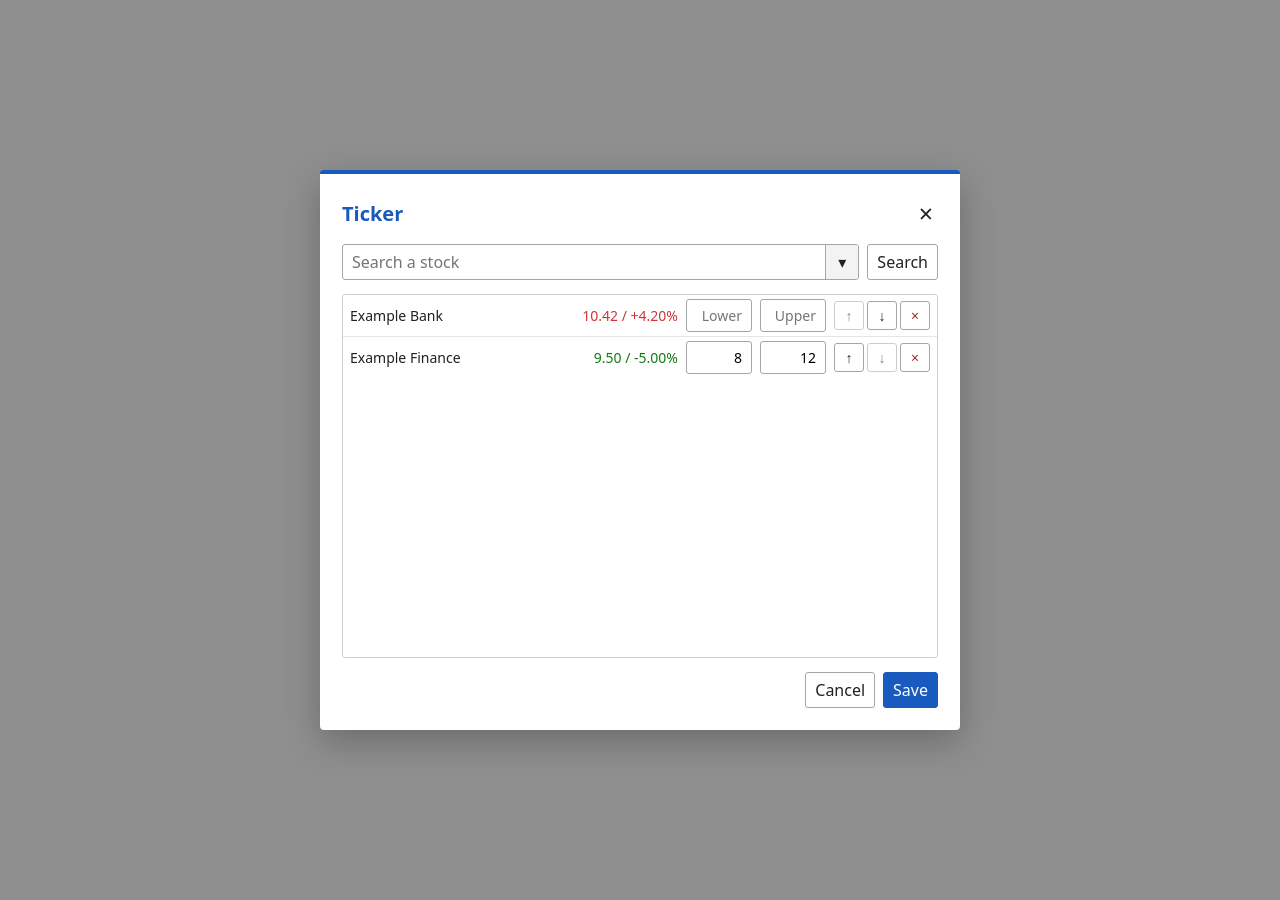
Ticker settings › closes the stock pull-down when clicking outside like the Create stock combobox
expect the text "Example Bank" is shown: met, box [350, 306, 443, 325]
Click the button named "Show existing stocks". click: (842, 262)
box: [825, 245, 858, 279]
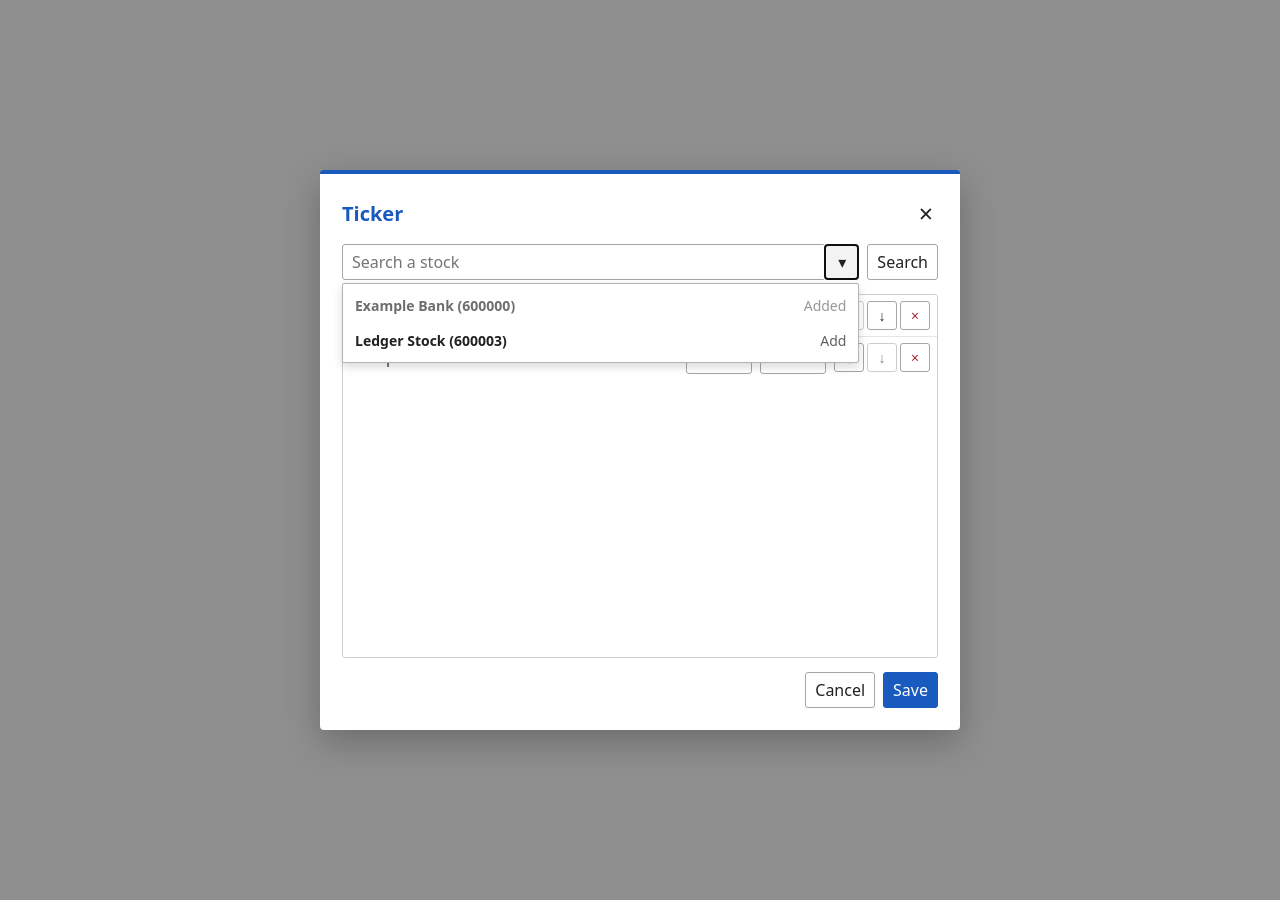
expect the list with class "ticker-results" is shown: met, box [342, 283, 859, 363]
Press the mouse on the heading "Ticker" at (373, 213), box [342, 200, 403, 226]
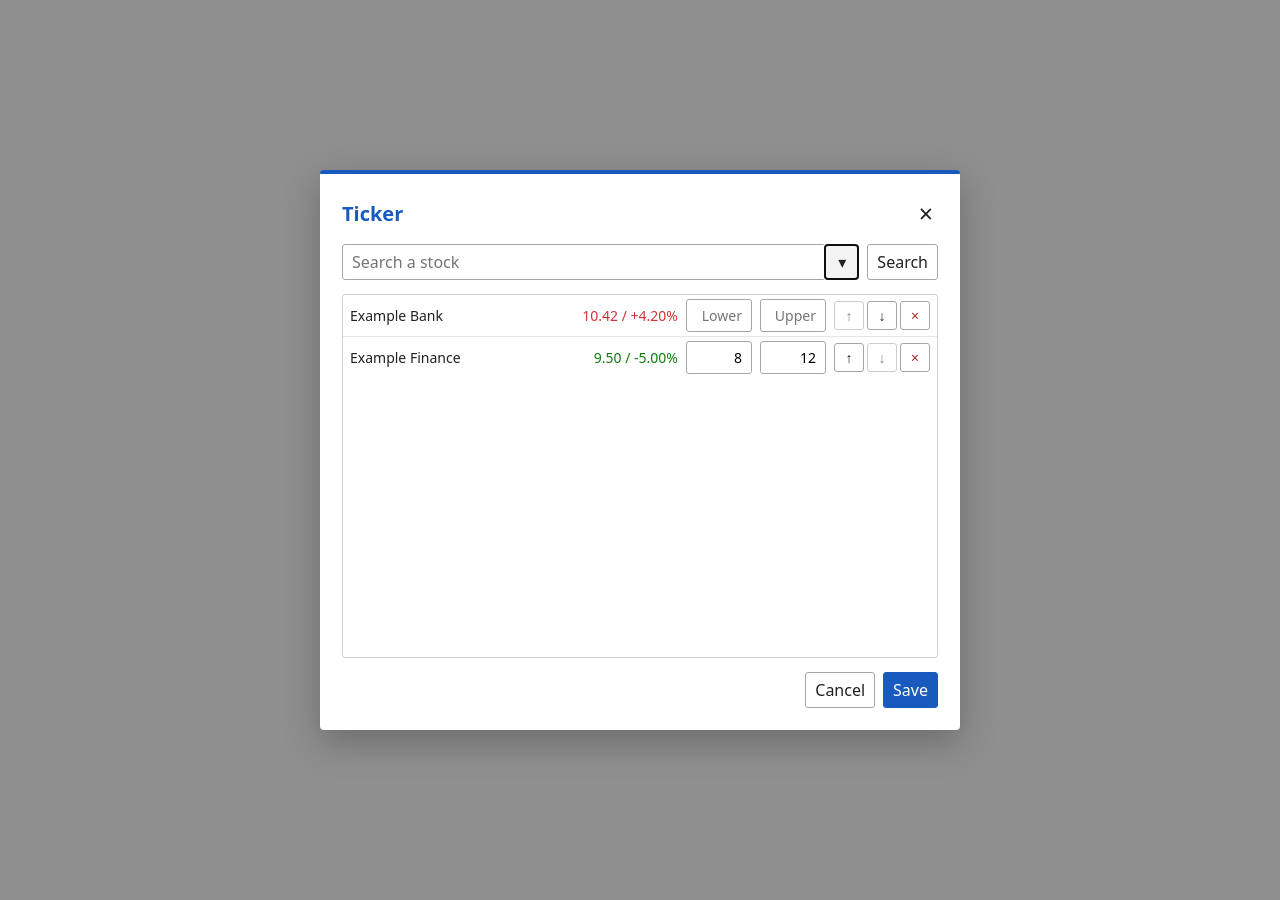
expect the list with class "ticker-results" is gone: met
